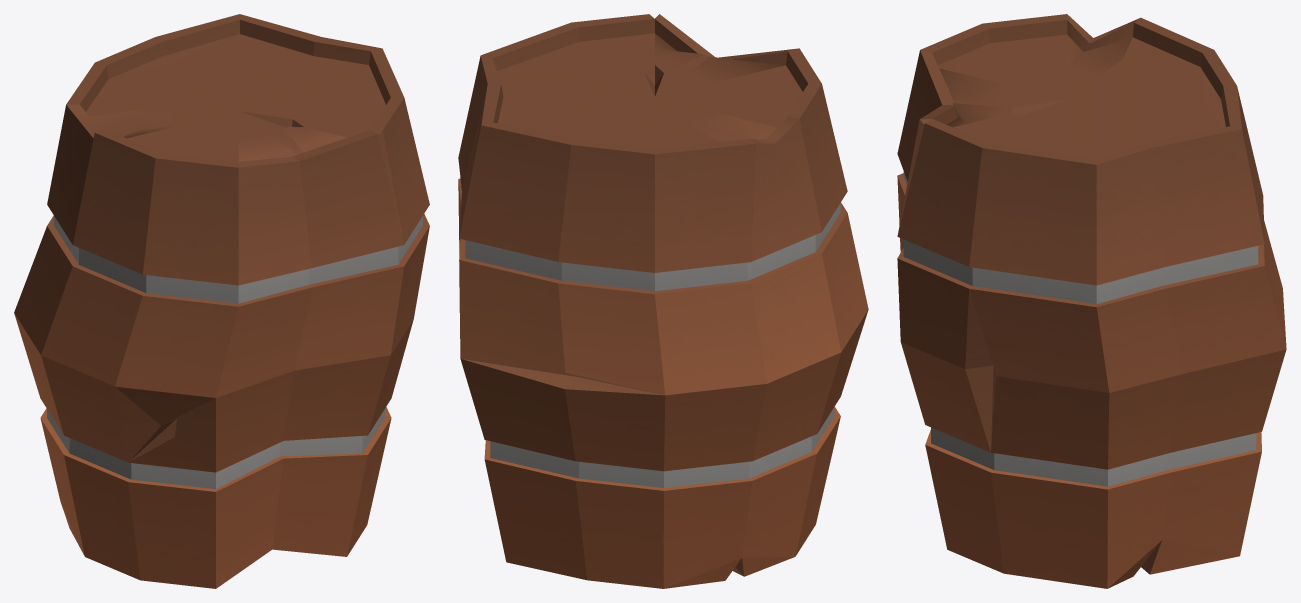
File: barril2.fbx
3 views of the same model, side by side, from view 1: azimuth 30°, elevation 25°; view 2: azimuth 150°, elevation 25°; view 3: azimuth 270°, elevation 25° (orthographic). The views are drawn at different scales.
Parts seen in each view (by area): view 1: barril2; view 2: barril2; view 3: barril2.
Part boxes in pixels (x1,y1,x2,y2): barril2: (14, 14, 429, 588); barril2: (458, 14, 868, 588); barril2: (897, 14, 1286, 588).
Bounding box in the file's own units: 355 × 391 × 314.
